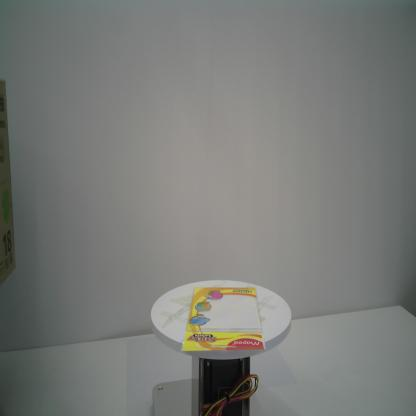Stationery: (180, 284, 268, 353)
